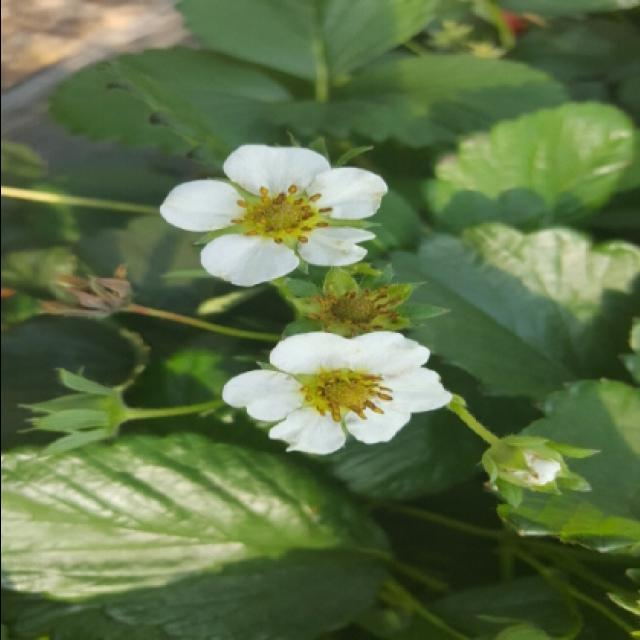Blossom Blight: (223, 180, 336, 253), (293, 366, 395, 426), (313, 281, 403, 337)
